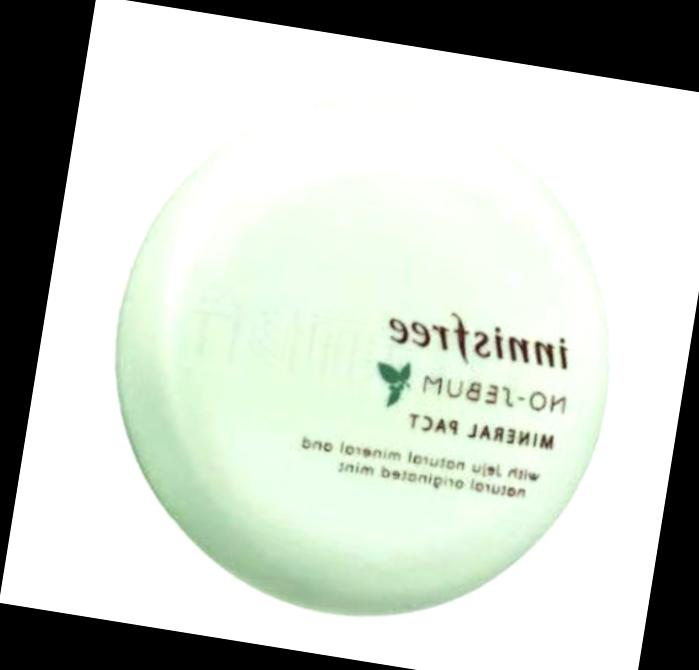cosmetic: (71, 62, 652, 655)
